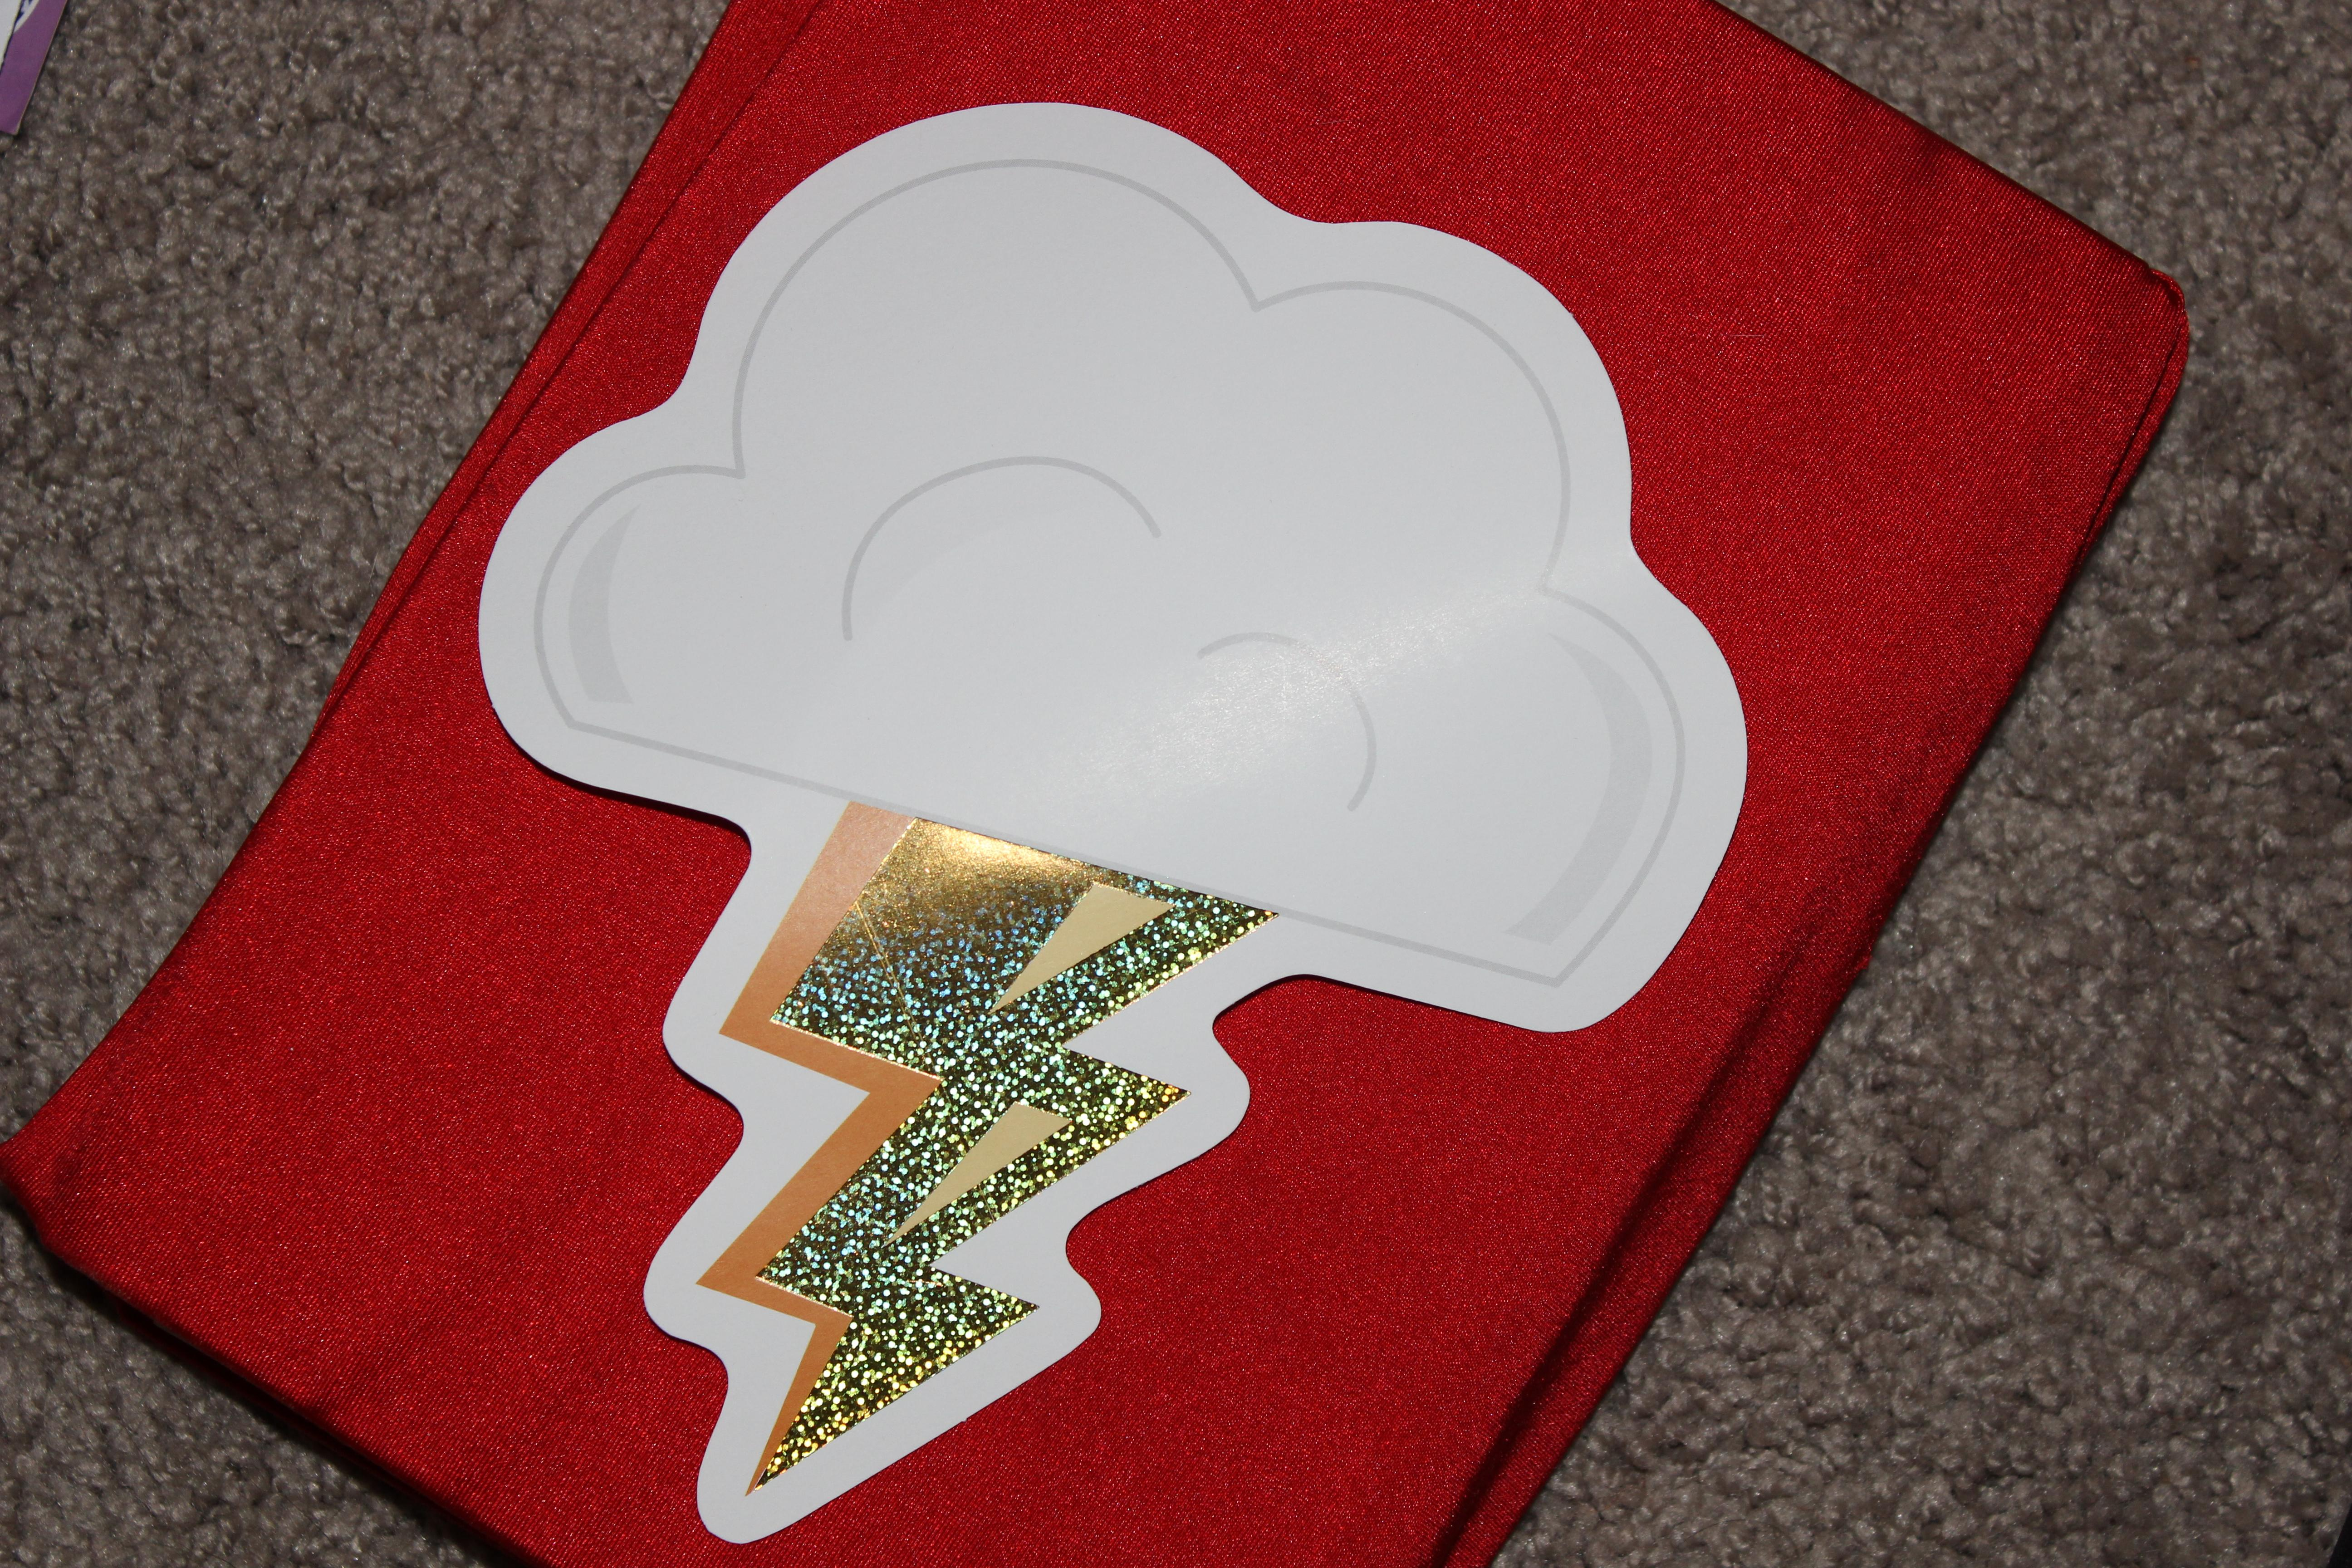cloudSign: (460, 87, 1809, 1568)
